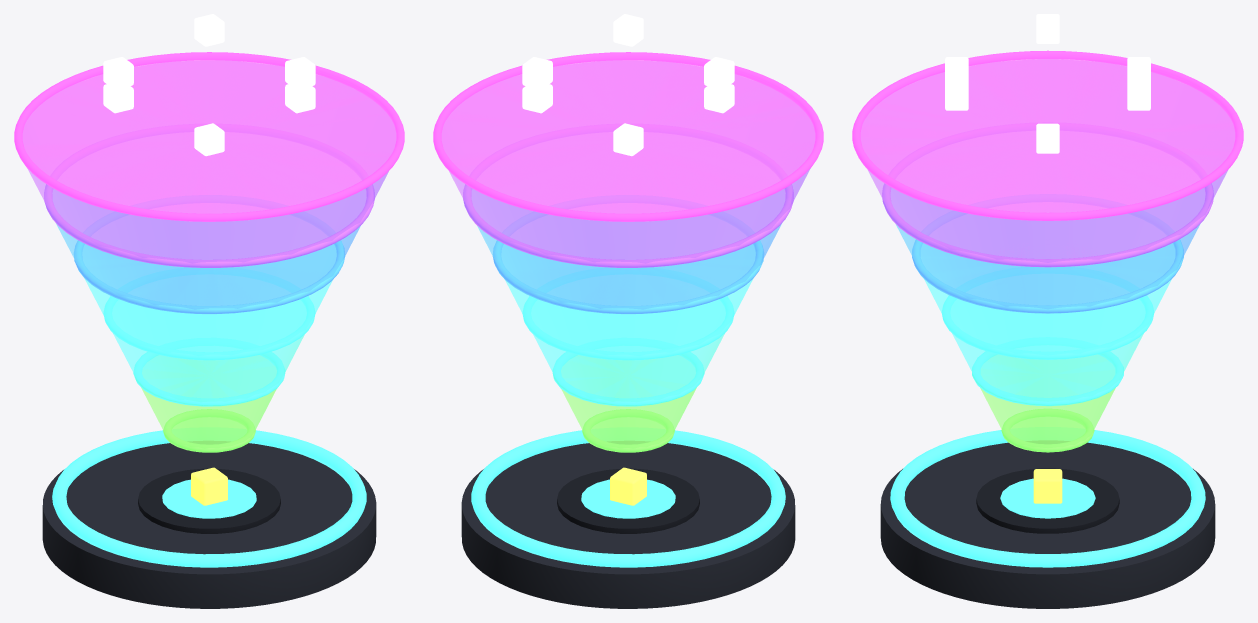
Rendered from holo-funnel.glb.
3 views of the same model, side by side, from view 1: azimuth 30°, elevation 25°; view 2: azimuth 150°, elevation 25°; view 3: azimuth 270°, elevation 25° (orthographic).
Parts seen in each view (by area): view 1: funnel-1-rotor-holo (×6), holo-funnel-solid, funnel-1-rotor-glow (×8), holo-funnel-glow; view 2: funnel-1-rotor-holo (×6), holo-funnel-solid, funnel-1-rotor-glow (×8), holo-funnel-glow; view 3: funnel-1-rotor-holo (×6), holo-funnel-solid, funnel-1-rotor-glow (×8), holo-funnel-glow.
Part boxes in pixels (<box>): funnel-1-rotor-holo (×6): <box>22,56,396,452</box>; holo-funnel-solid: <box>42,443,376,608</box>; funnel-1-rotor-glow (×8): <box>14,14,404,505</box>; holo-funnel-glow: <box>52,430,366,567</box>; funnel-1-rotor-holo (×6): <box>441,56,815,452</box>; holo-funnel-solid: <box>461,443,795,608</box>; funnel-1-rotor-glow (×8): <box>433,14,823,505</box>; holo-funnel-glow: <box>471,430,785,567</box>; funnel-1-rotor-holo (×6): <box>860,55,1235,452</box>; holo-funnel-solid: <box>880,442,1215,608</box>; funnel-1-rotor-glow (×8): <box>852,14,1243,503</box>; holo-funnel-glow: <box>890,430,1205,567</box>.
Bounding box in the file's own units: 0.656 × 0.8784 × 0.6553.
